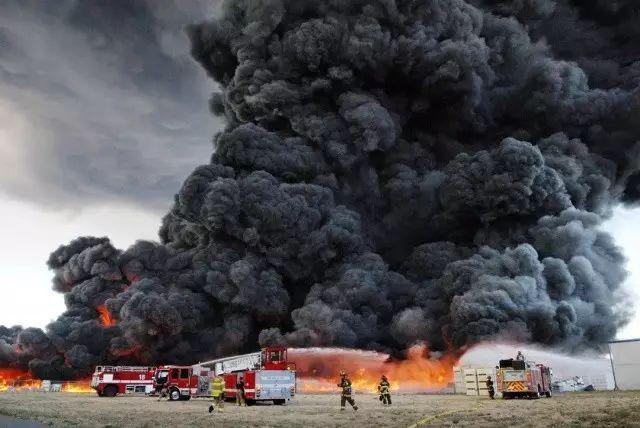fire: (384, 358, 452, 386), (0, 368, 39, 391), (351, 359, 377, 390), (65, 377, 91, 393), (100, 302, 108, 326)
